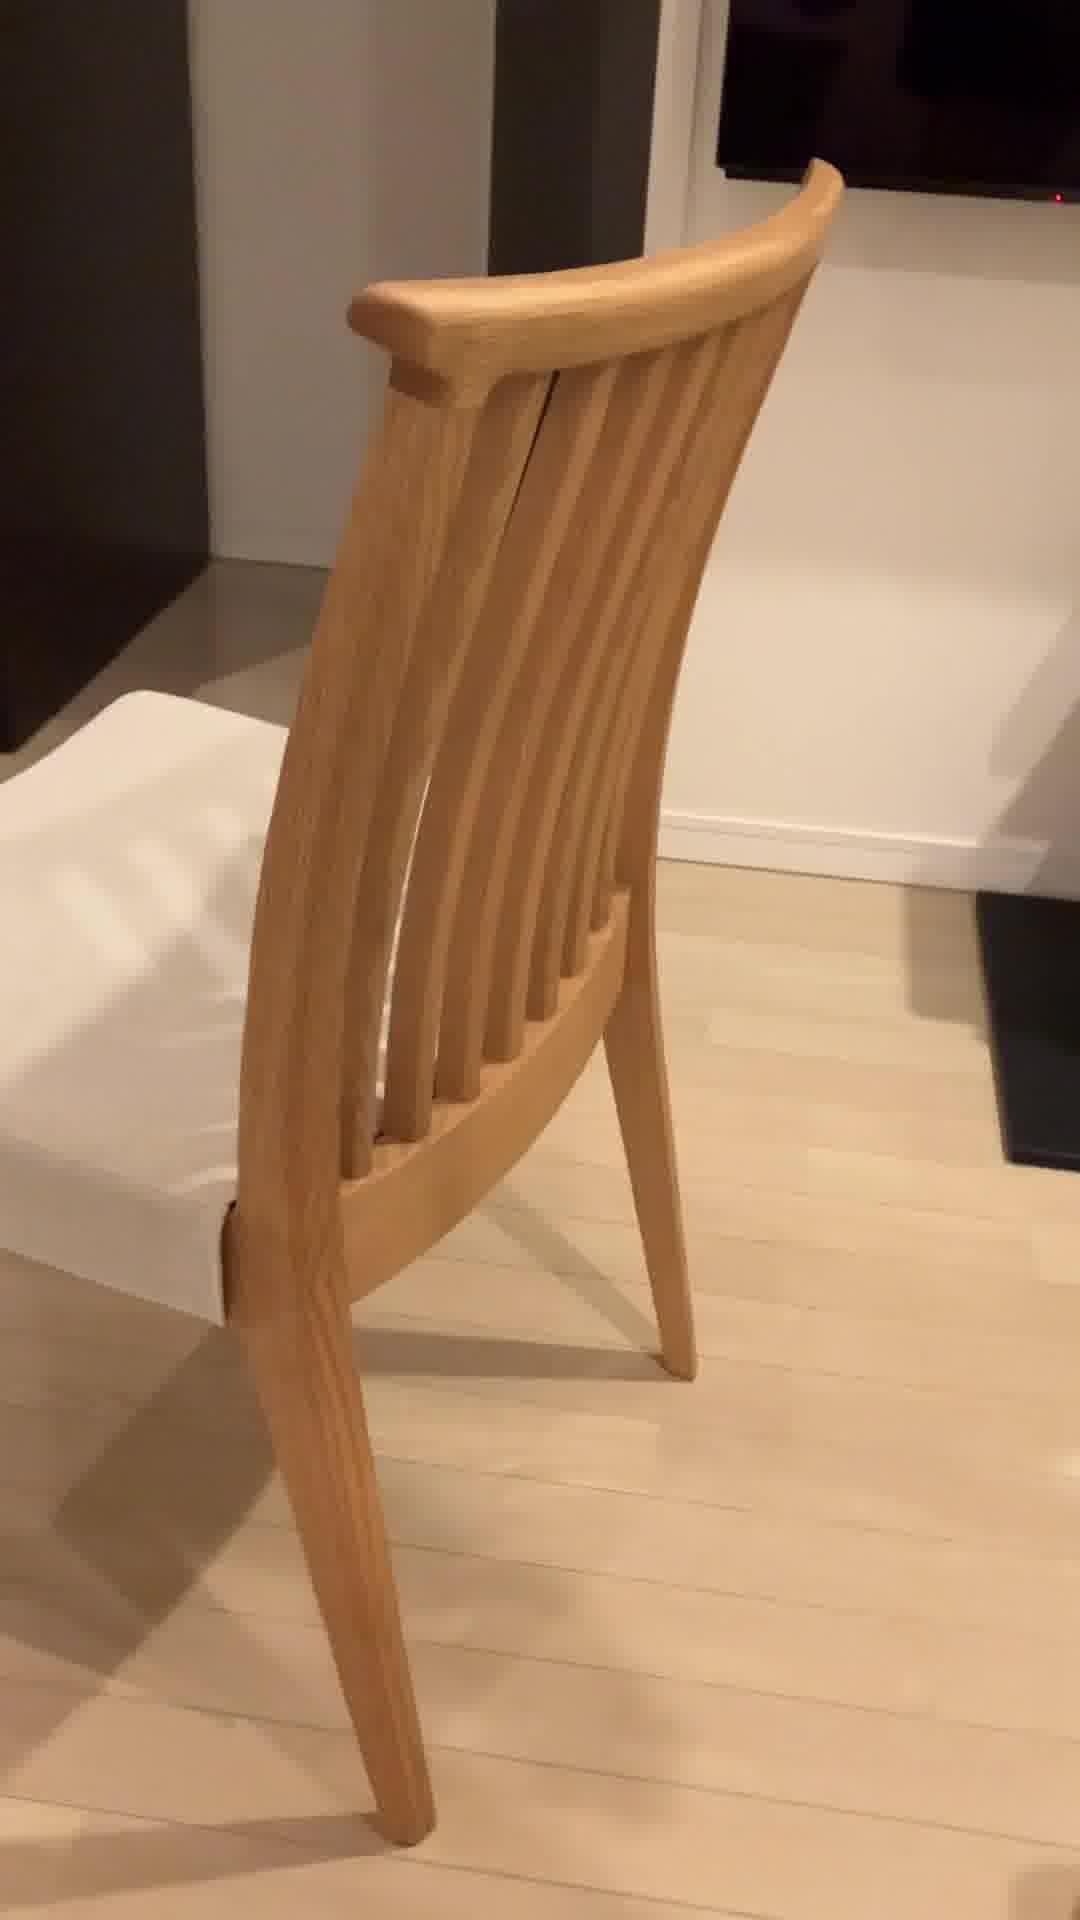takumikan-chair: (0, 156, 847, 1849)
